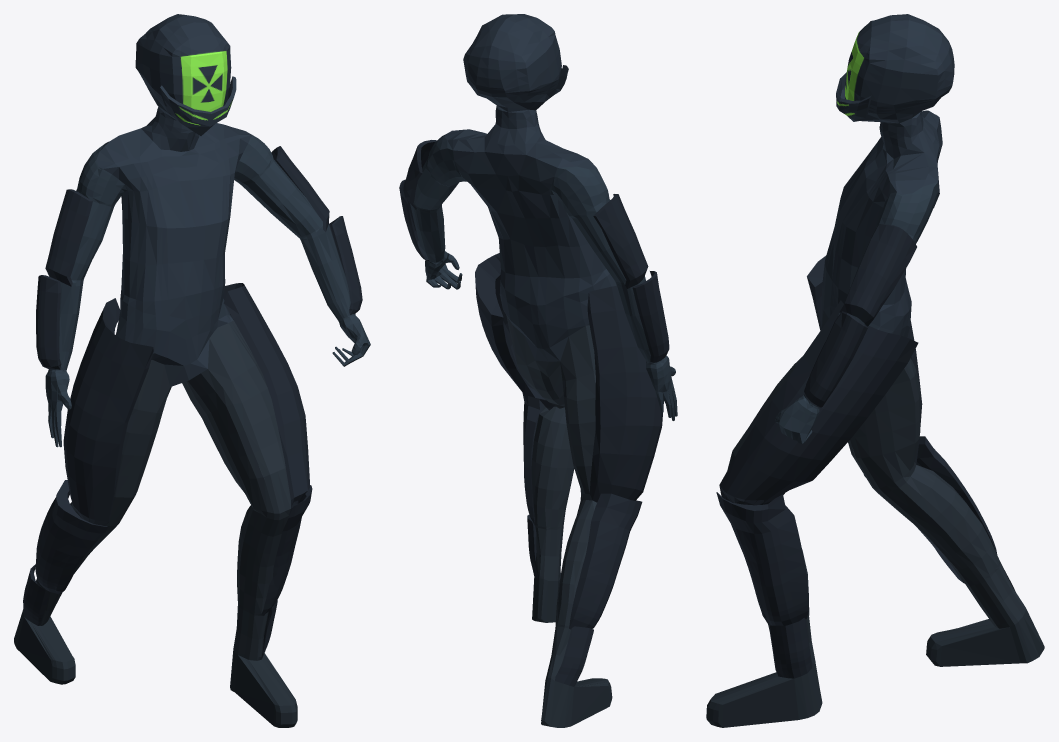
File: Bastion_Hit_Recover_000003.obj
3 views of the same model, side by side, from view 1: azimuth 30°, elevation 25°; view 2: azimuth 150°, elevation 25°; view 3: azimuth 270°, elevation 25° (orthographic). The views are drawn at different scales.
Visible parts, largest first — view 1: Cube.002; view 2: Cube.002; view 3: Cube.002.
Part boxes in pixels (x1,y1,x2,y2): Cube.002: (14, 14, 370, 727); Cube.002: (399, 14, 677, 727); Cube.002: (706, 14, 1044, 727).
Bounding box in the file's own units: 1.71 × 3.67 × 1.61.
